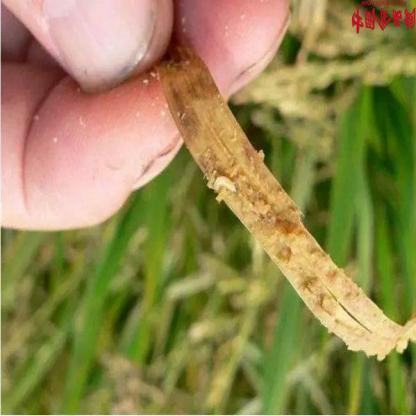whorl-maggot: (214, 170, 238, 196)
